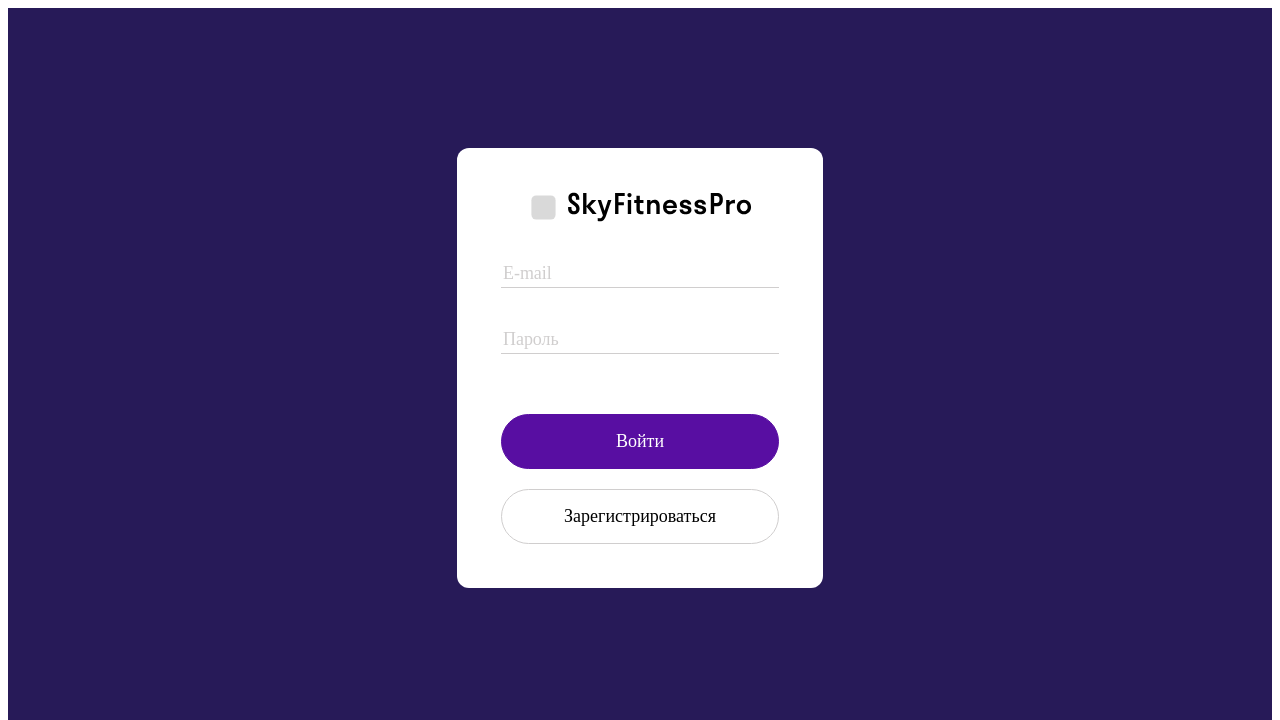
Test: Test registration › should output errors when the user enters incorrect data
The image size is (1280, 720).
Type "test-user.sky.pro" into the field named "email".
click(640, 275); type("test-user.sky.pro")  # box x1=501 y1=261 x2=779 y2=288
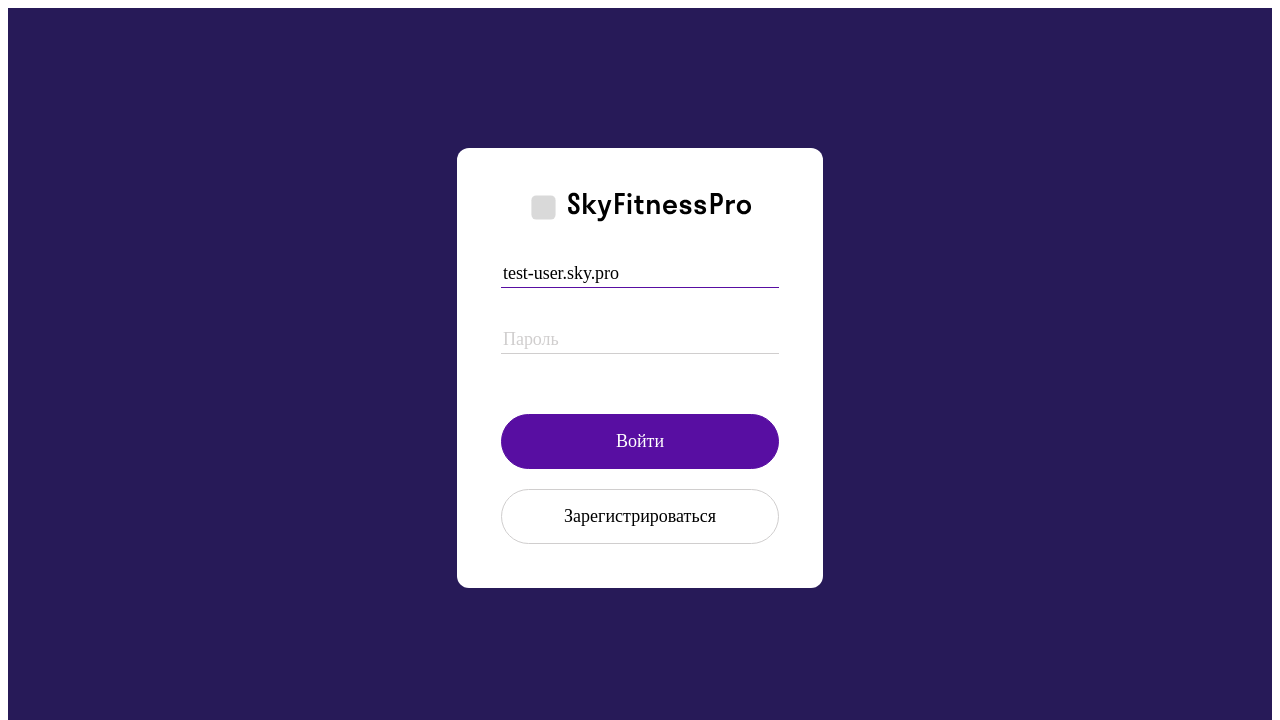
Leave the field named "email", box x1=501 y1=261 x2=779 y2=288
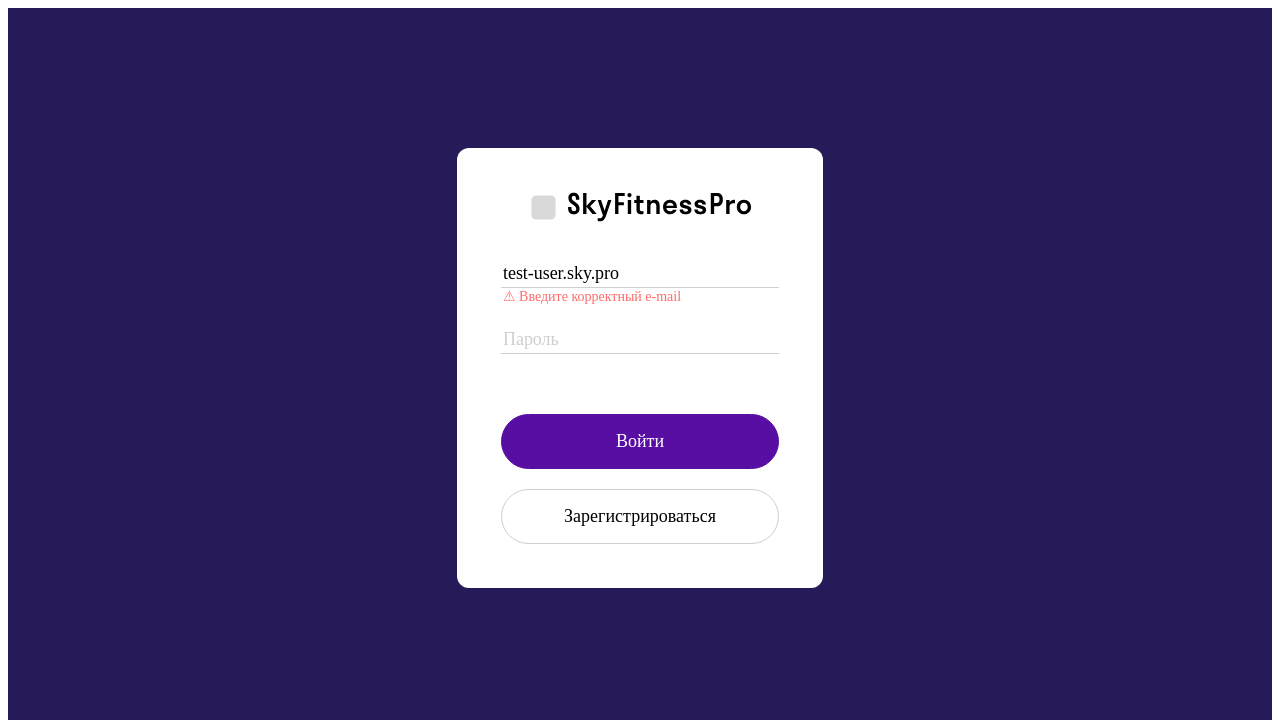
Result: the text "Введите корректный e-mail" is shown at x1=503 y1=289 x2=681 y2=304
Type "12345" into the password field named "password".
click(640, 341); type("12345")  # box x1=501 y1=327 x2=779 y2=354
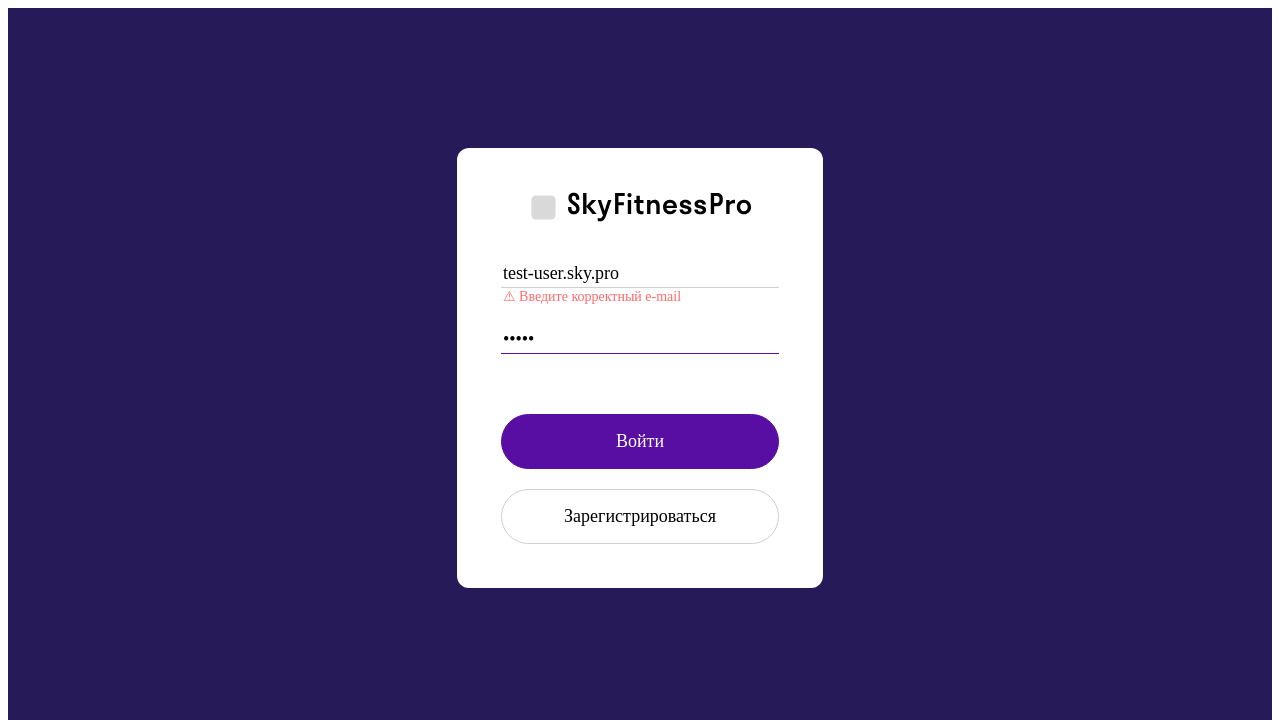
Leave the password field named "password", box x1=501 y1=327 x2=779 y2=354
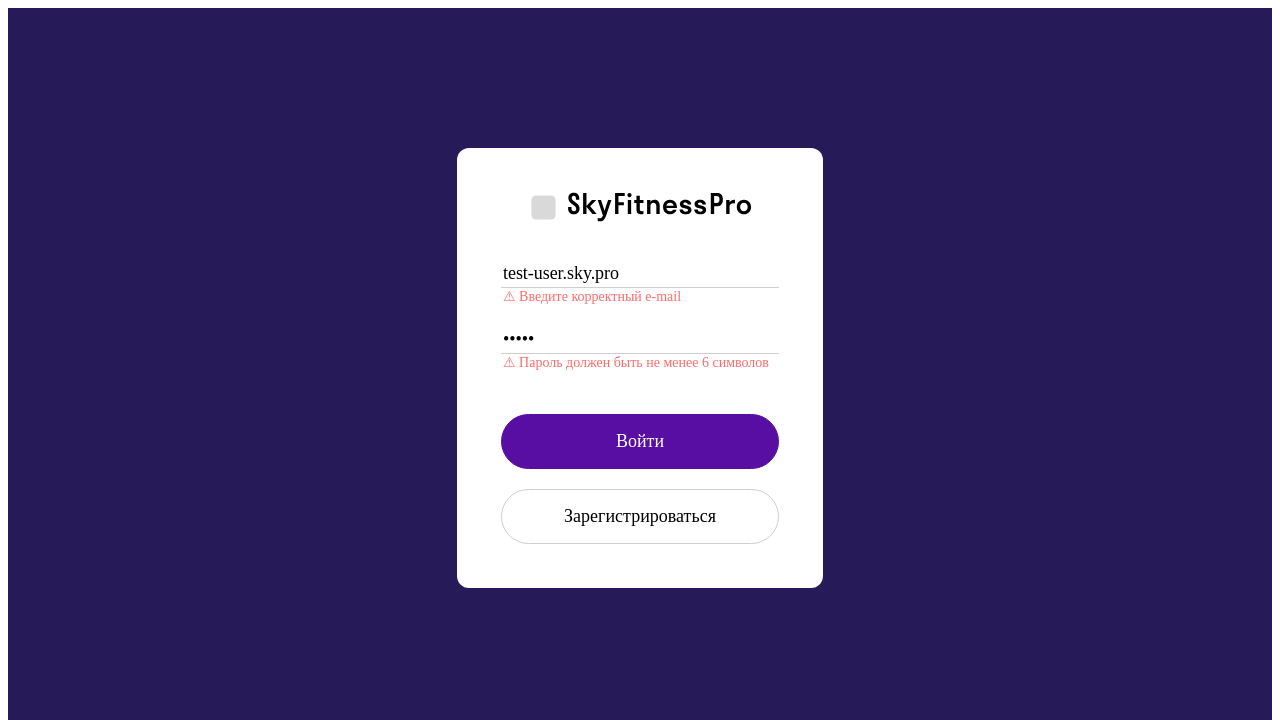
Result: the text "Пароль должен быть не менее 6 символов" is shown at x1=503 y1=355 x2=769 y2=370
